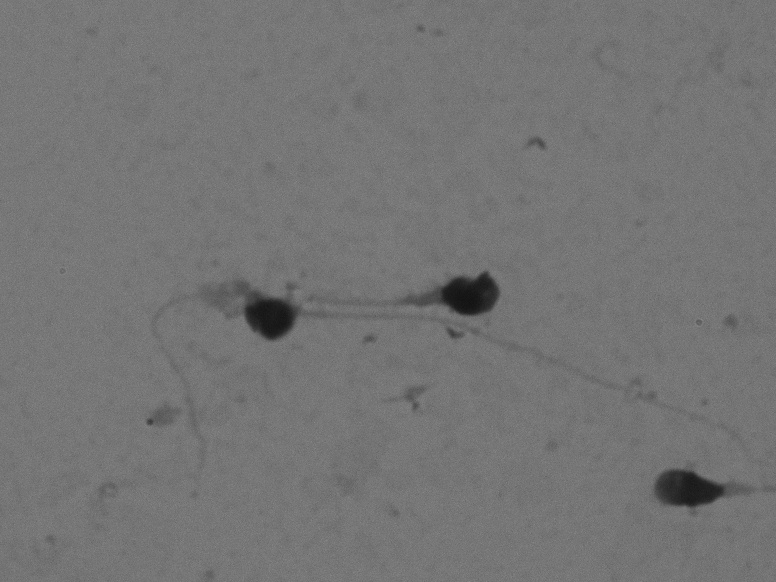Abnormal: (104, 243, 532, 521), (235, 274, 651, 411), (623, 405, 770, 548)
